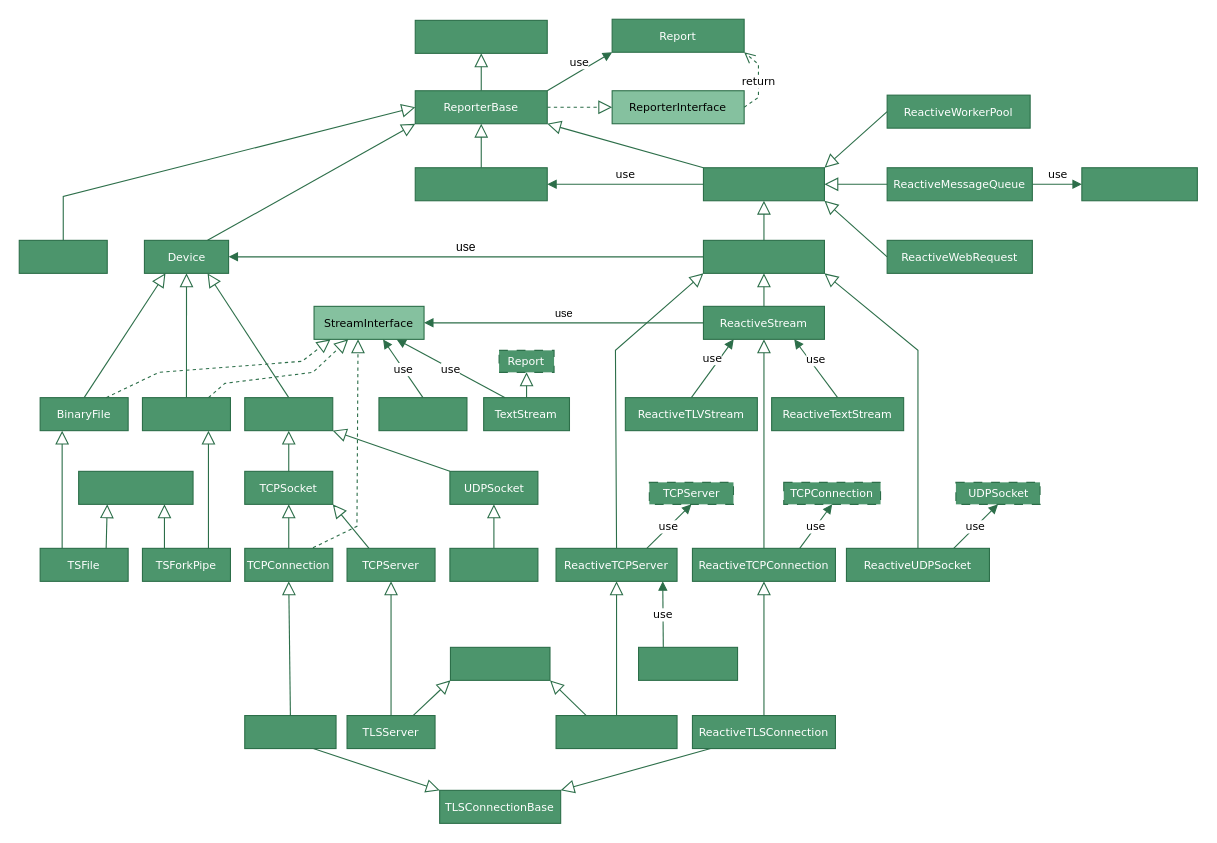
The diagram is 1217 pixels wide and 843 high, and some of its shapes have lost their labels. The centre of each missing label's shape, as x and y in pixels:
ForkPipe: the point at 185,414
MessageQueue: the point at 1139,184
Object: the point at 480,36
Reactive Server: the point at 687,663
ReactiveBase: the point at 763,184
ReactiveDevice: the point at 763,256
ReactiveTLSServer: the point at 616,731
Reactor: the point at 480,184
Socket: the point at 288,414
TLSConnection: the point at 290,731
TLSServerBase: the point at 499,663
TLVStream: the point at 422,414
TSPacketStream: the point at 135,487
UDPReceiver: the point at 493,564
WebRequest: the point at 62,256
